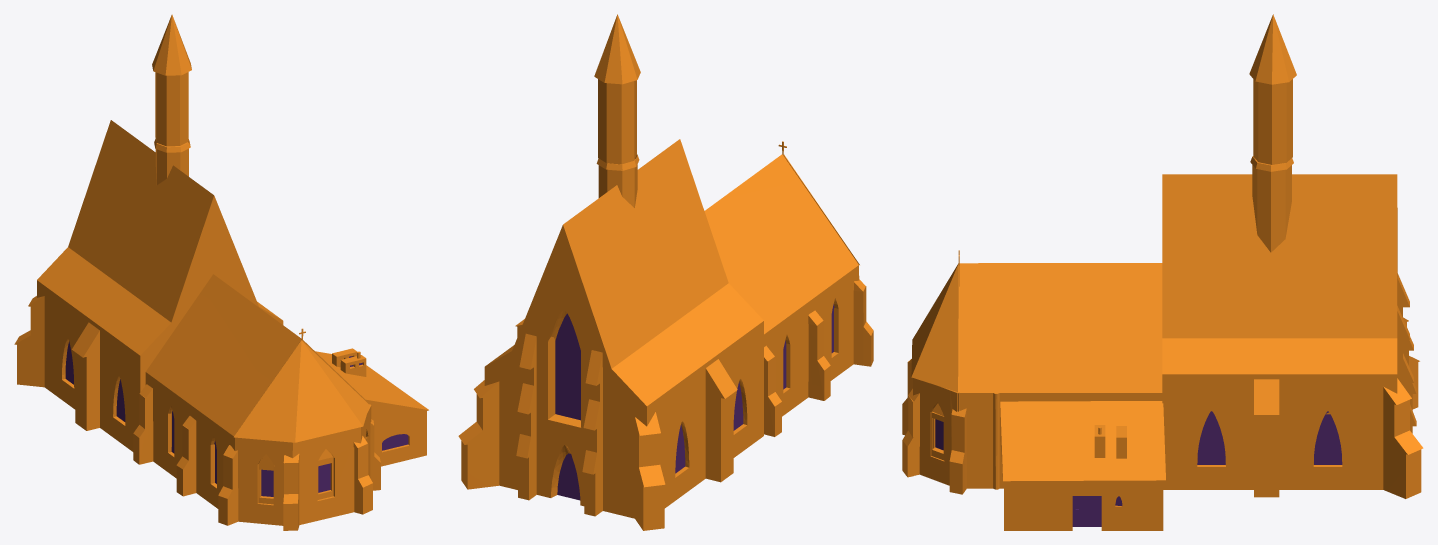
Rendered from Sw WacławV2.fbx.
3 views of the same model, side by side, from view 1: azimuth 30°, elevation 25°; view 2: azimuth 150°, elevation 25°; view 3: azimuth 270°, elevation 25° (orthographic). The views are drawn at different scales.
Parts seen in each view (by area): view 1: Radom_3D_Sw_Waclaw_2; view 2: Radom_3D_Sw_Waclaw_2; view 3: Radom_3D_Sw_Waclaw_2.
Boxes of the visible parts, x1,y1,x2,y2 form: Radom_3D_Sw_Waclaw_2: (14, 14, 428, 530); Radom_3D_Sw_Waclaw_2: (458, 14, 873, 530); Radom_3D_Sw_Waclaw_2: (902, 14, 1423, 530).
Size of the model in its own units: 31.64 by 49.13 by 52.61.
1 material, 1 textured.
